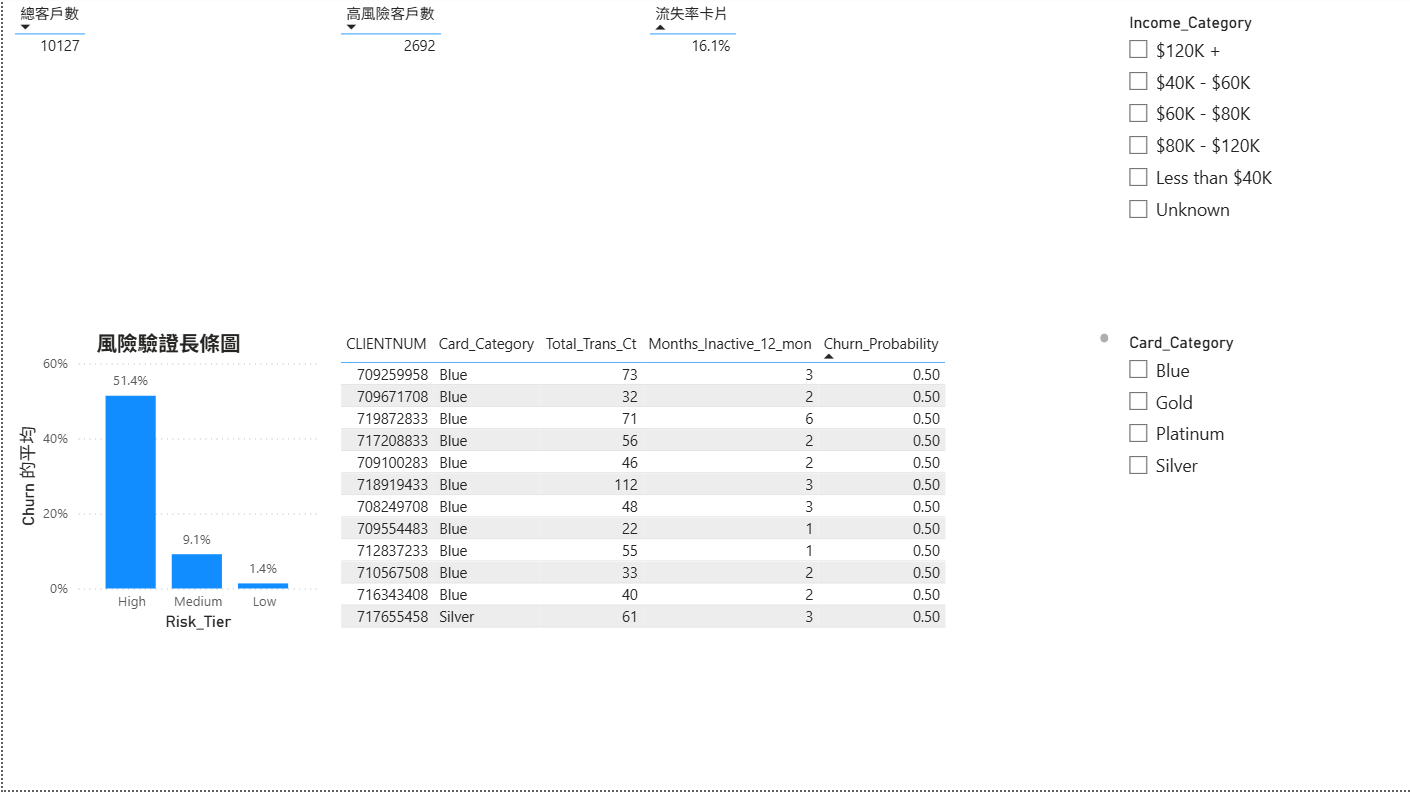

Layout of this report page (visuals, bound fields, positions):
{"tool":"powerbi","page":{"name":"第 1 頁","canvas":[1280,720],"ordinal":0},"visuals":[{"type":"tableEx","fields":{"Values":["CountNonNull(sjrt5-k82wi.ï»¿CLIENTNUM)"]},"box":[4.5,0,290.2,279.3],"z":0},{"type":"tableEx","fields":{"Values":["CountNonNull(sjrt5-k82wi.ï»¿CLIENTNUM)"]},"box":[300.2,0,280.2,269.3],"z":1000},{"type":"tableEx","fields":{"Values":["Avg(sjrt5-k82wi.Churn)"]},"box":[580.4,0,280.2,279.3],"z":2000},{"type":"clusteredColumnChart","title":"風險驗證長條圖","fields":{"Category":["sjrt5-k82wi.Risk_Tier"],"Y":["Avg(sjrt5-k82wi.Churn)"]},"box":[9.7,300.5,280.1,280.1],"z":3000},{"type":"tableEx","fields":{"Values":["sjrt5-k82wi.CLIENTNUM","sjrt5-k82wi.Card_Category","sjrt5-k82wi.Total_Trans_Ct","sjrt5-k82wi.Months_Inactive_12_mon","sjrt5-k82wi.Churn_Probability"]},"box":[300.2,300.2,708.2,280.2],"z":4000},{"type":"slicer","fields":{"Values":["sjrt5-k82wi.Income_Category"]},"box":[1008.6,10.7,260.7,279.1],"z":5000},{"type":"slicer","fields":{"Values":["sjrt5-k82wi.Card_Category"]},"box":[1008.4,301.1,232.1,280.2],"z":6000}]}

Visuals, with their boxes in screenshot pixels (x1, y1, x2, y2), scaled from the page's 1280x720 canvas onto the 1410x798 screenshot:
tableEx - CountNonNull(sjrt5-k82wi.ï»¿CLIENTNUM): <bbox>5, 0, 325, 310</bbox>
tableEx - CountNonNull(sjrt5-k82wi.ï»¿CLIENTNUM): <bbox>331, 0, 639, 298</bbox>
tableEx - Avg(sjrt5-k82wi.Churn): <bbox>639, 0, 948, 310</bbox>
"風險驗證長條圖" clusteredColumnChart: <bbox>11, 333, 319, 643</bbox>
tableEx - sjrt5-k82wi.CLIENTNUM x sjrt5-k82wi.Card_Category: <bbox>331, 333, 1111, 643</bbox>
slicer - sjrt5-k82wi.Income_Category: <bbox>1111, 12, 1398, 321</bbox>
slicer - sjrt5-k82wi.Card_Category: <bbox>1111, 334, 1366, 644</bbox>
